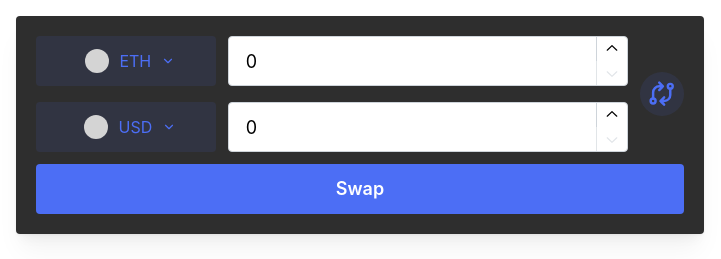
Test case: Home › exchange token correctly
Replace the text in the 1st field with placeholder "Amount" with "1": (428, 61) [228,36,628,86]
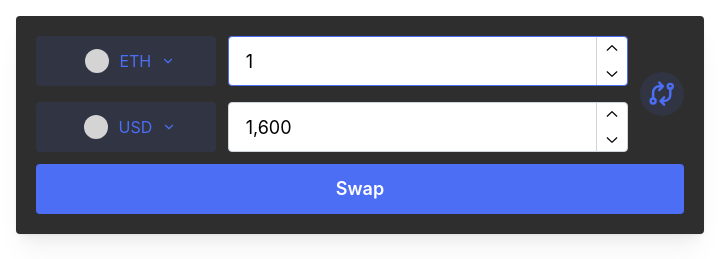
Expected: the 2nd field with placeholder "Amount" holds "1,600"
Replace the text in the 2nd field with placeholder "Amount" with "3200": (428, 127) [228,102,628,152]
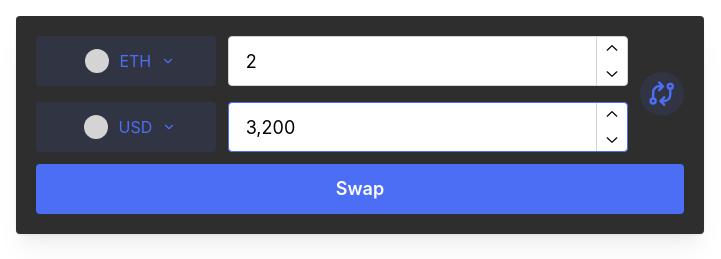
Expected: the 1st field with placeholder "Amount" holds "2", [228,36,628,86]
